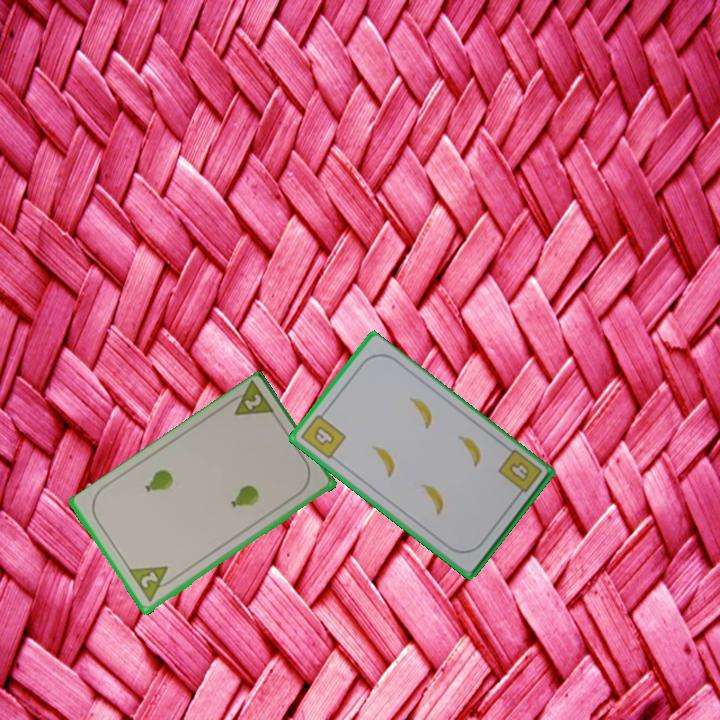2p: (126, 562, 178, 606), (222, 379, 279, 419)
4b: (297, 407, 349, 462), (494, 446, 545, 502)
